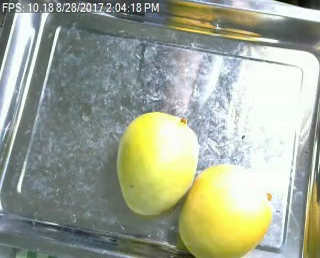Mango: (115, 110, 200, 215), (177, 163, 272, 255)
